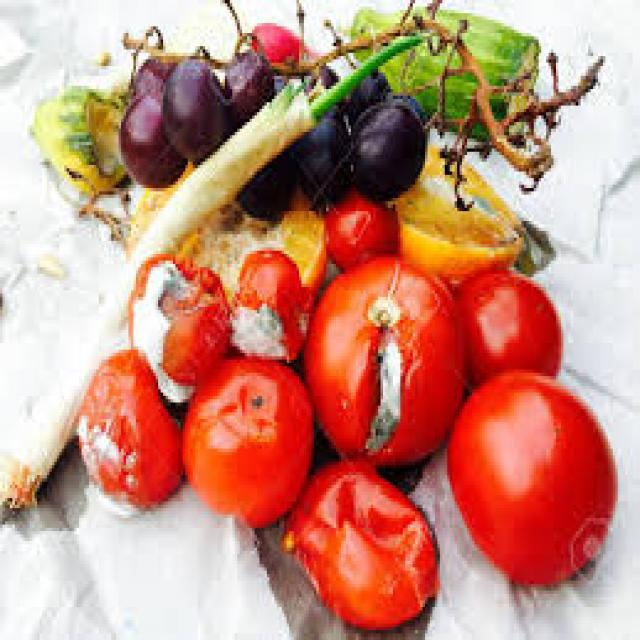organic waste: (0, 26, 425, 505), (116, 0, 603, 205), (445, 366, 613, 581), (302, 247, 464, 458), (126, 152, 324, 297), (279, 458, 435, 624), (348, 4, 536, 136), (178, 350, 314, 521), (388, 139, 521, 277), (74, 346, 183, 508), (126, 254, 230, 402), (452, 260, 559, 382), (27, 82, 131, 192), (227, 247, 309, 363), (348, 99, 422, 195), (160, 53, 224, 155), (321, 185, 398, 267), (116, 92, 183, 185), (232, 138, 294, 214), (292, 109, 348, 191), (222, 40, 272, 116), (336, 59, 388, 119), (247, 16, 304, 59), (292, 50, 334, 106), (514, 214, 553, 274), (378, 82, 425, 126)
